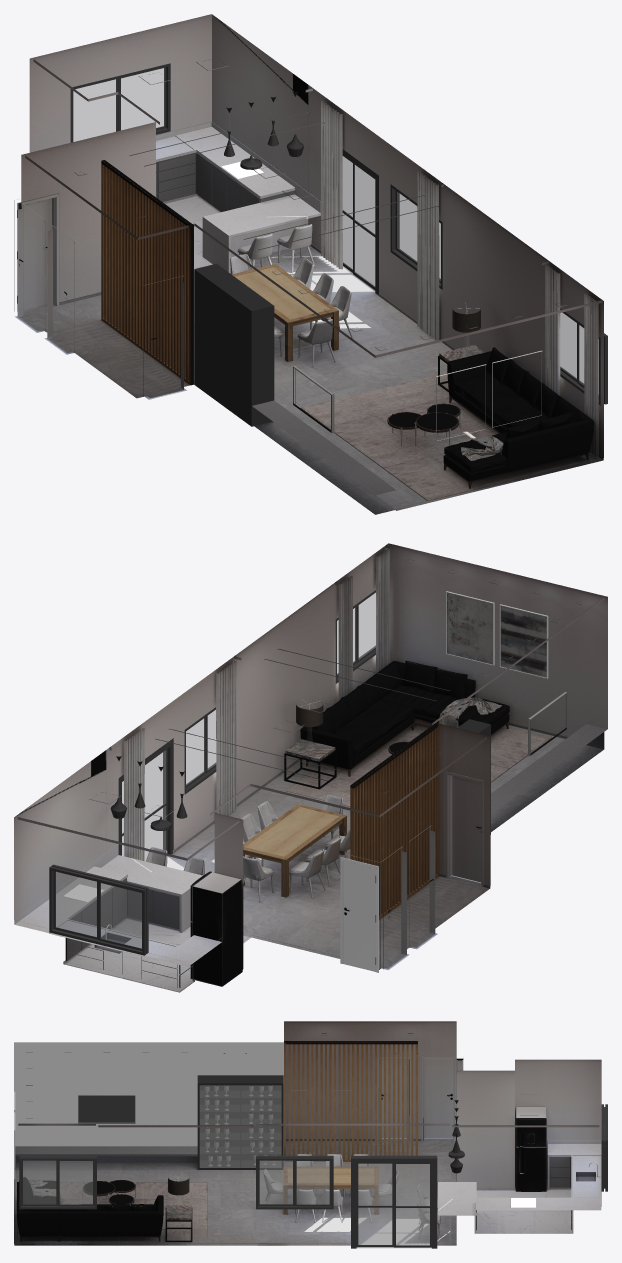
The model's file is Living_Room.gltf.
3 renders of one model, top to bottom at view 1: azimuth 30°, elevation 25°; view 2: azimuth 150°, elevation 25°; view 3: azimuth 270°, elevation 25°, orthographic. The views are drawn at different scales.
Parts seen in each view (by area): view 1: Interior14, Interior16, Interior17, Interior19, Interior8, Interior26, Interior23, Interior1, Interior2, Interior25, Interior (1), Interior24 (+1 smaller); view 2: Interior14, Interior16, Interior17, Interior19, Interior26, Interior3, Interior18, Interior2, Interior23, Interior (1), Interior25, Interior1 (+3 smaller); view 3: Interior14, Interior16, Interior20, Interior17, Interior8, Interior4, Interior23, Interior1, Interior25, Interior (1), Interior9, Interior24 (+3 smaller).
Boxes of the visible parts, x1,y1,x2,y2 form: Interior14: (15,14,603,514); Interior16: (14,91,594,500); Interior17: (101,160,338,385); Interior19: (321,101,598,456); Interior8: (194,263,274,426); Interior26: (73,68,164,141); Interior23: (342,156,375,286); Interior1: (560,312,598,395); Interior2: (70,63,170,142); Interior25: (397,192,440,280); Interior (1): (342,149,378,295); Interior24: (390,184,442,289); Interior14: (14,543,607,992); Interior16: (110,660,566,985); Interior17: (243,723,439,919); Interior19: (123,549,389,861); Interior26: (55,872,141,948); Interior3: (447,592,492,664); Interior18: (500,606,546,677); Interior2: (49,864,148,955); Interior23: (122,750,166,861); Interior (1): (118,738,173,855); Interior25: (186,710,216,785); Interior1: (337,593,375,674); Interior14: (14,1021,601,1248); Interior16: (17,1057,546,1241); Interior20: (14,1042,284,1161); Interior17: (283,1041,417,1214); Interior8: (197,1075,283,1169); Interior4: (199,1085,281,1167); Interior23: (358,1163,429,1245); Interior1: (23,1160,92,1204); Interior25: (259,1160,329,1204); Interior (1): (351,1155,437,1248); Interior9: (78,1095,134,1122); Interior24: (256,1155,333,1209).
Bounding box in the file's own units: 1.21 × 0.611 × 2.75.
